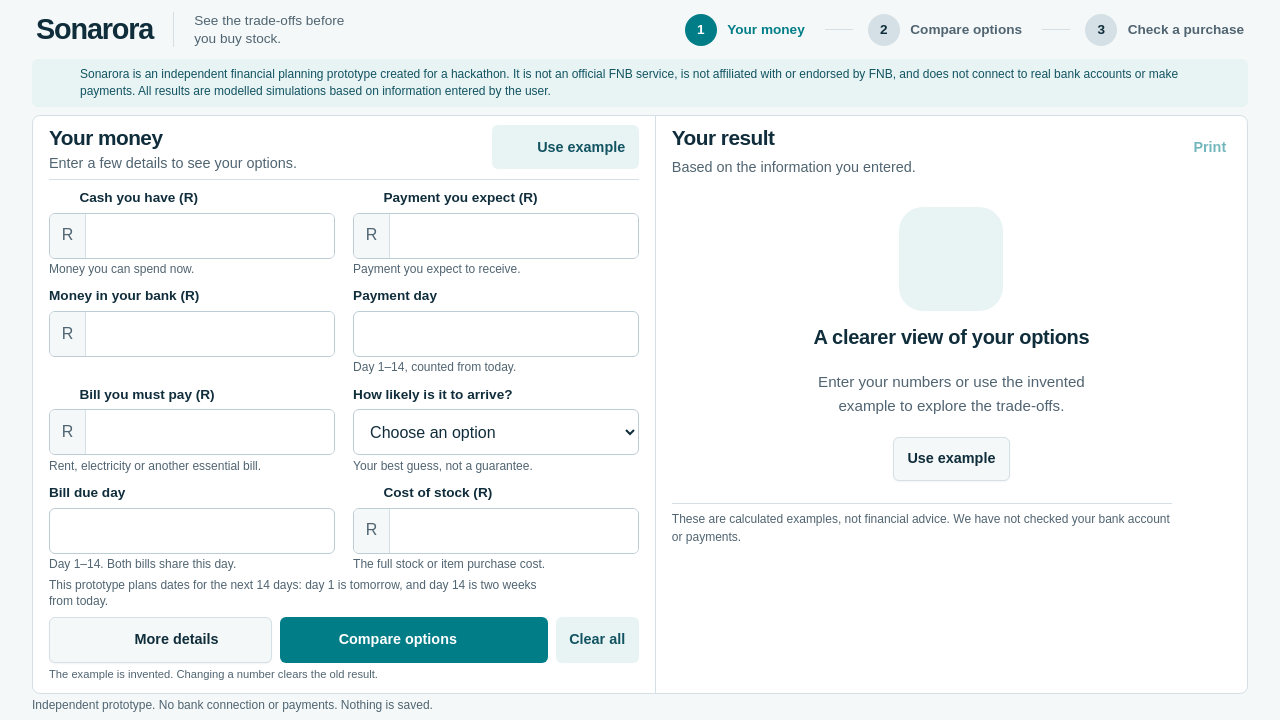
Test: redesigned decision flow › cannot restore example results or navigate after clearing a pending example
The image size is (1280, 720).
Click the button "Use example" in the row of "Enter a few details to see your options.": (565, 148) [492,126,639,170]
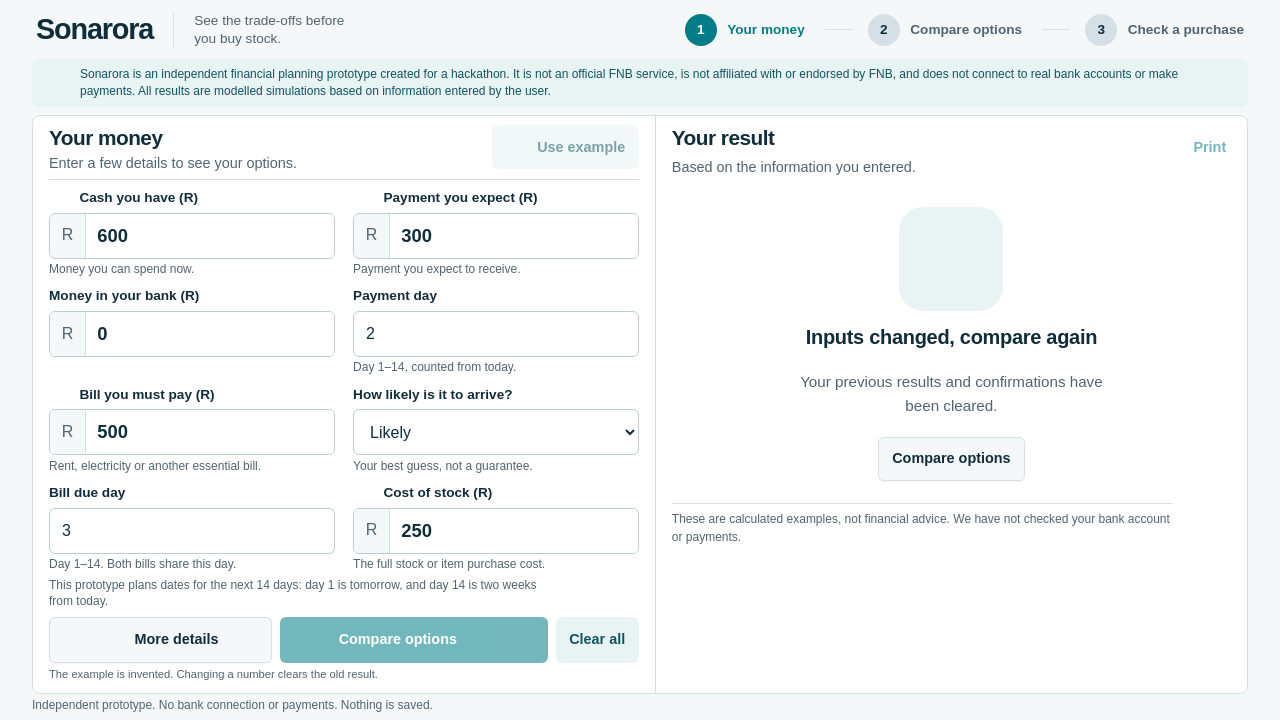
Click the button "Clear all": (597, 640) [556,617,639,663]
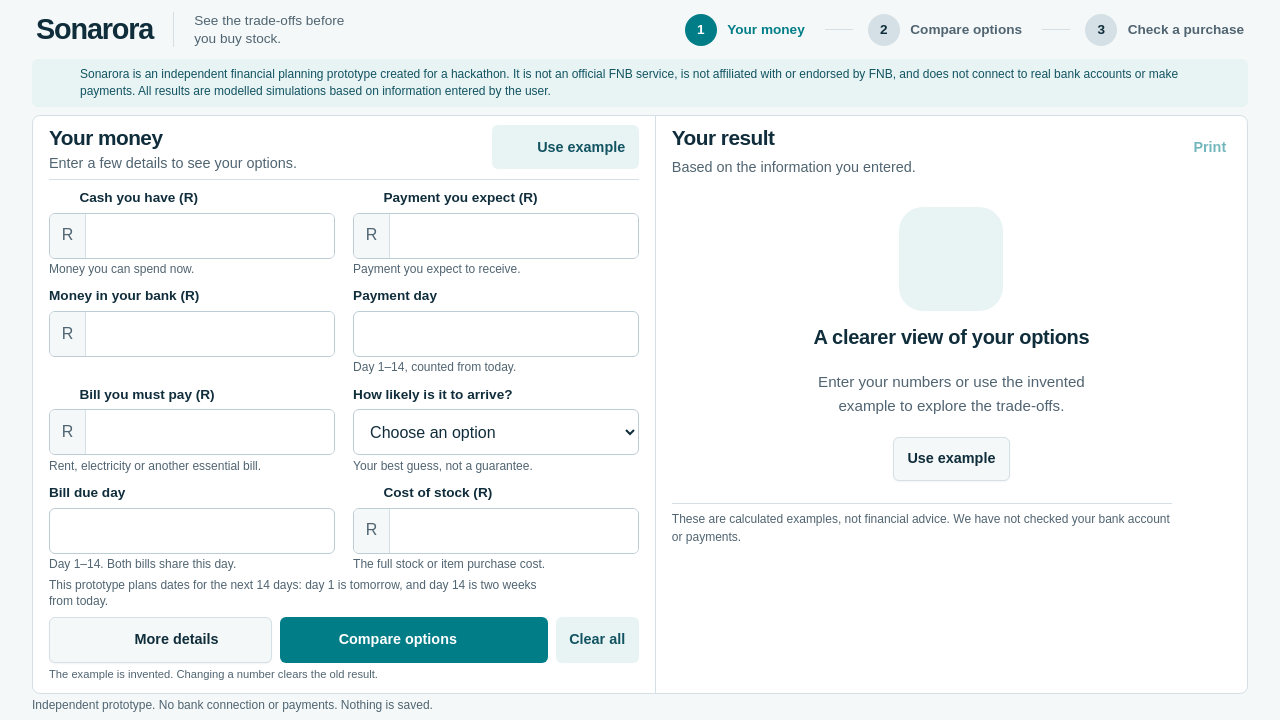
Result: the field with id "cash" is empty at [86,214,334,258]
